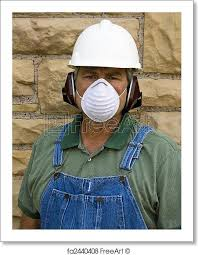Person_wearing_helmet: (58, 14, 146, 85)
